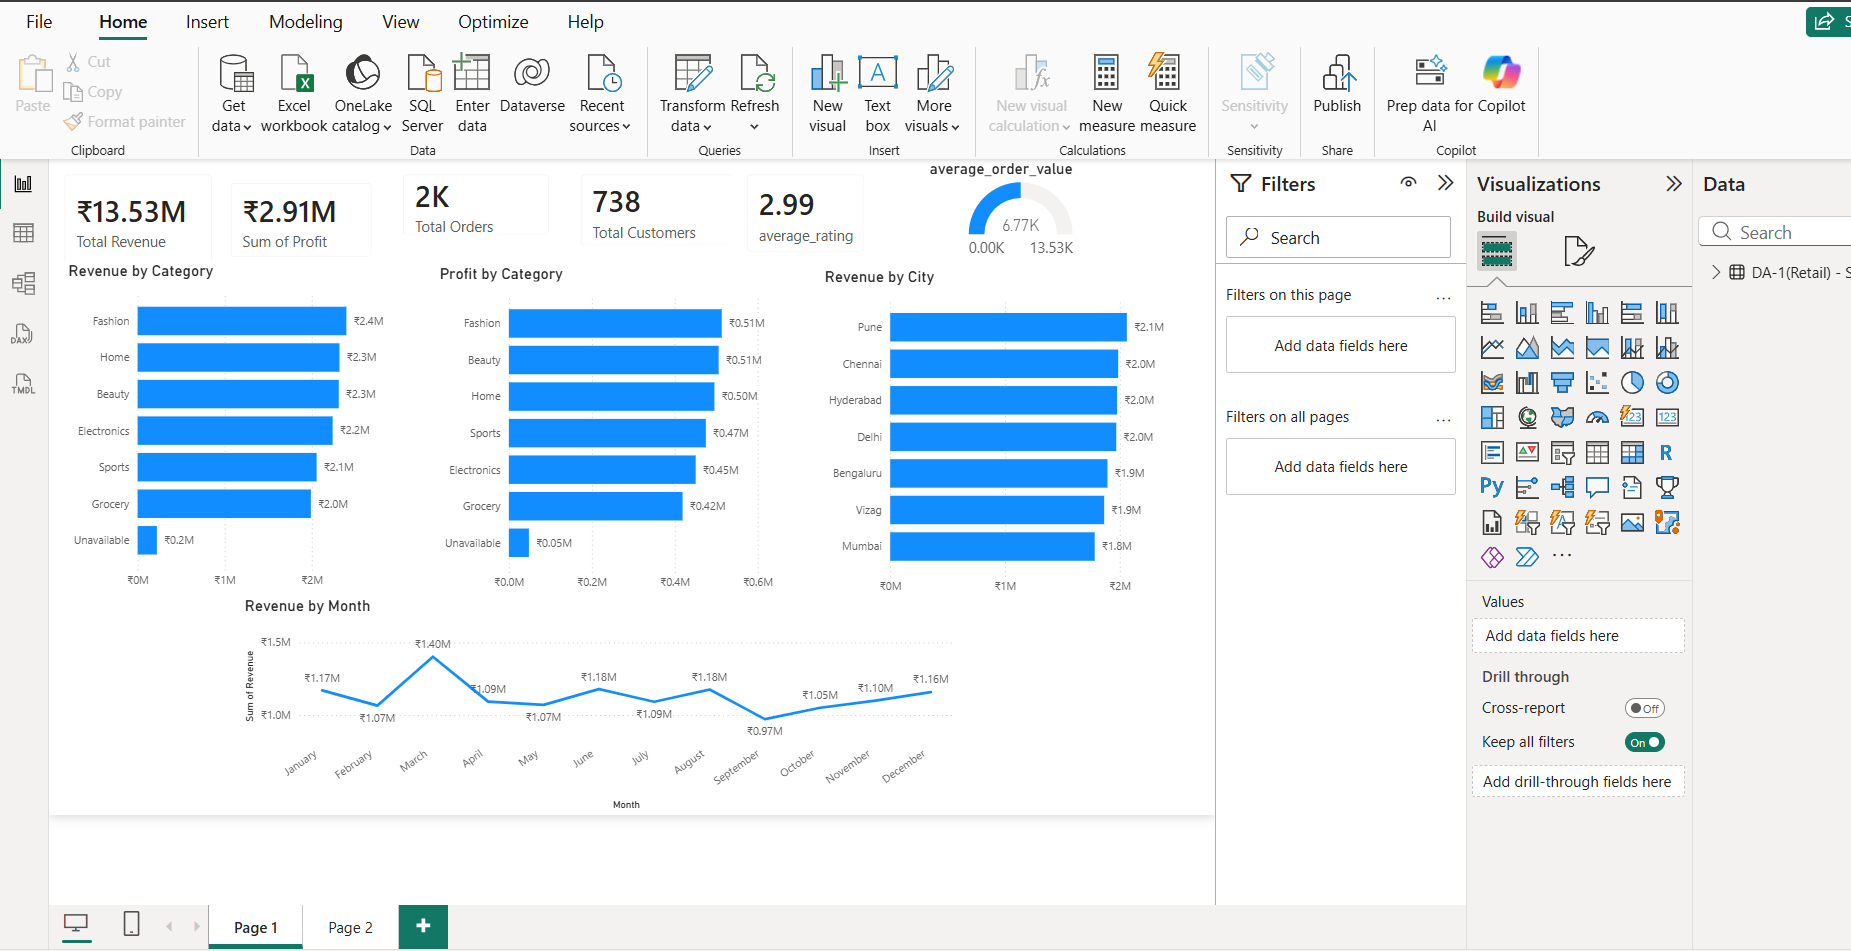

The page's visual inventory and layout, read from the dashboard file:
{"tool":"powerbi","page":{"name":"Page 1","canvas":[1280,720],"ordinal":0},"visuals":[{"type":"cardVisual","fields":{"Data":["Sum(DA-1(Retail) - Sheet1.Revenue)"]},"box":[0,0,196.2,134.5],"z":0},{"type":"cardVisual","fields":{"Data":["Sum(DA-1(Retail) - Sheet1.Profit)"]},"box":[182.5,9.6,189.4,115.3],"z":1000},{"type":"cardVisual","fields":{"Data":["CountNonNull(DA-1(Retail) - Sheet1.Order_ID)"]},"box":[371.9,0,194.9,100.2],"z":2000},{"type":"cardVisual","fields":{"Data":["Count(DA-1(Retail) - Sheet1.Customer_ID)"]},"box":[566.7,0,233.3,112.5],"z":3000},{"type":"gauge","fields":{"Y":["DA-1(Retail) - Sheet1.average_order_value"]},"box":[961.9,0,209.9,119.4],"z":4000},{"type":"cardVisual","fields":{"Data":["DA-1(Retail) - Sheet1.average_rating"]},"box":[749.2,0,163.3,119.4],"z":5000},{"type":"clusteredBarChart","title":"Revenue by Category","fields":{"Y":["Sum(DA-1(Retail) - Sheet1.Revenue)"],"Category":["DA-1(Retail) - Sheet1.Category"]},"box":[16.5,112.5,407.5,367.8],"z":6000},{"type":"clusteredBarChart","title":"Profit by Category","fields":{"Y":["Sum(DA-1(Retail) - Sheet1.Profit)"],"Category":["DA-1(Retail) - Sheet1.Category"]},"box":[424,115.3,407.5,367.8],"z":7000},{"type":"clusteredBarChart","title":"Revenue by City","fields":{"Y":["Sum(DA-1(Retail) - Sheet1.Revenue)"],"Category":["DA-1(Retail) - Sheet1.City"]},"box":[846.7,119.4,433.6,367.8],"z":8000},{"type":"lineChart","title":"Revenue by Month","fields":{"Category":["DA-1(Retail) - Sheet1.Month"],"Y":["Sum(DA-1(Retail) - Sheet1.Revenue)"]},"box":[209.9,480.3,787.7,240.1],"z":9000}]}

Visuals, with their boxes on the page's 1280x720 design canvas (x1, y1, x2, y2). These are canvas units, not pixel positions in the 1851x951 screenshot, which may show the page scaled, cropped or inside an application window:
cardVisual - Sum(DA-1(Retail) - Sheet1.Revenue): left=0, top=0, right=196, bottom=134
cardVisual - Sum(DA-1(Retail) - Sheet1.Profit): left=182, top=10, right=372, bottom=125
cardVisual - CountNonNull(DA-1(Retail) - Sheet1.Order_ID): left=372, top=0, right=567, bottom=100
cardVisual - Count(DA-1(Retail) - Sheet1.Customer_ID): left=567, top=0, right=800, bottom=112
gauge - DA-1(Retail) - Sheet1.average_order_value: left=962, top=0, right=1172, bottom=119
cardVisual - DA-1(Retail) - Sheet1.average_rating: left=749, top=0, right=912, bottom=119
"Revenue by Category" clusteredBarChart: left=16, top=112, right=424, bottom=480
"Profit by Category" clusteredBarChart: left=424, top=115, right=832, bottom=483
"Revenue by City" clusteredBarChart: left=847, top=119, right=1280, bottom=487
"Revenue by Month" lineChart: left=210, top=480, right=998, bottom=720
